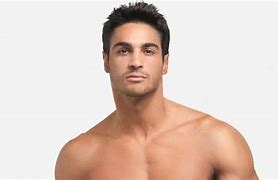person: (101, 1, 172, 107)
